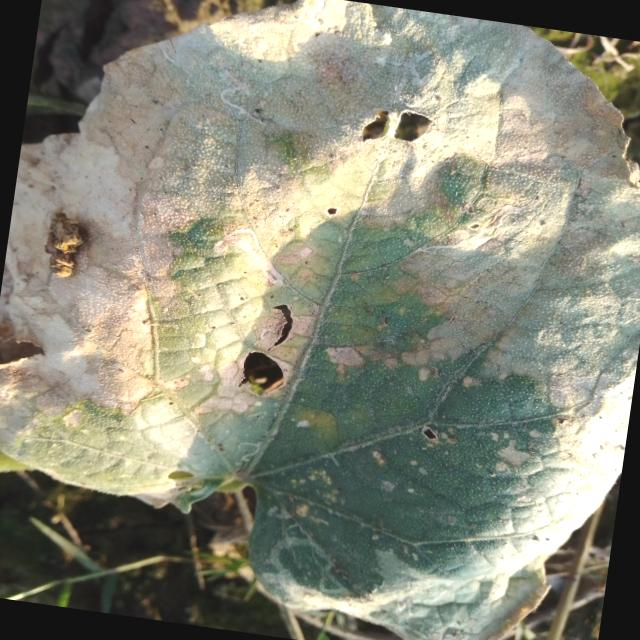cucumber_anthracnose: (60, 62, 629, 550)
